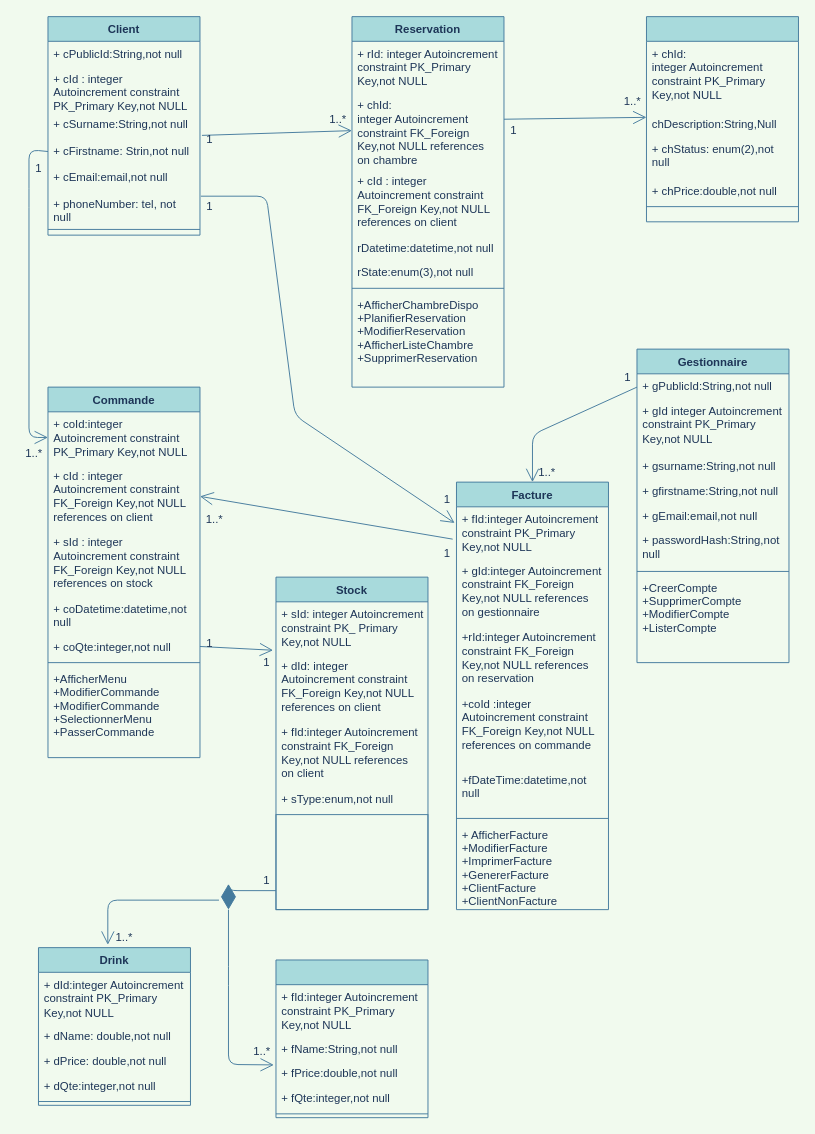
Image size: 815x1134. Some labels were removed from this diagram. The box of each missing label's shape, as (x1, y1, x2, y2) in pixels:
+DecrementerStock +AjouterStock +SupprimerStock +VerifierStock +AfficherStock: (275, 814, 428, 910)
Chambre: (646, 16, 798, 222)
Food: (275, 959, 428, 1118)
